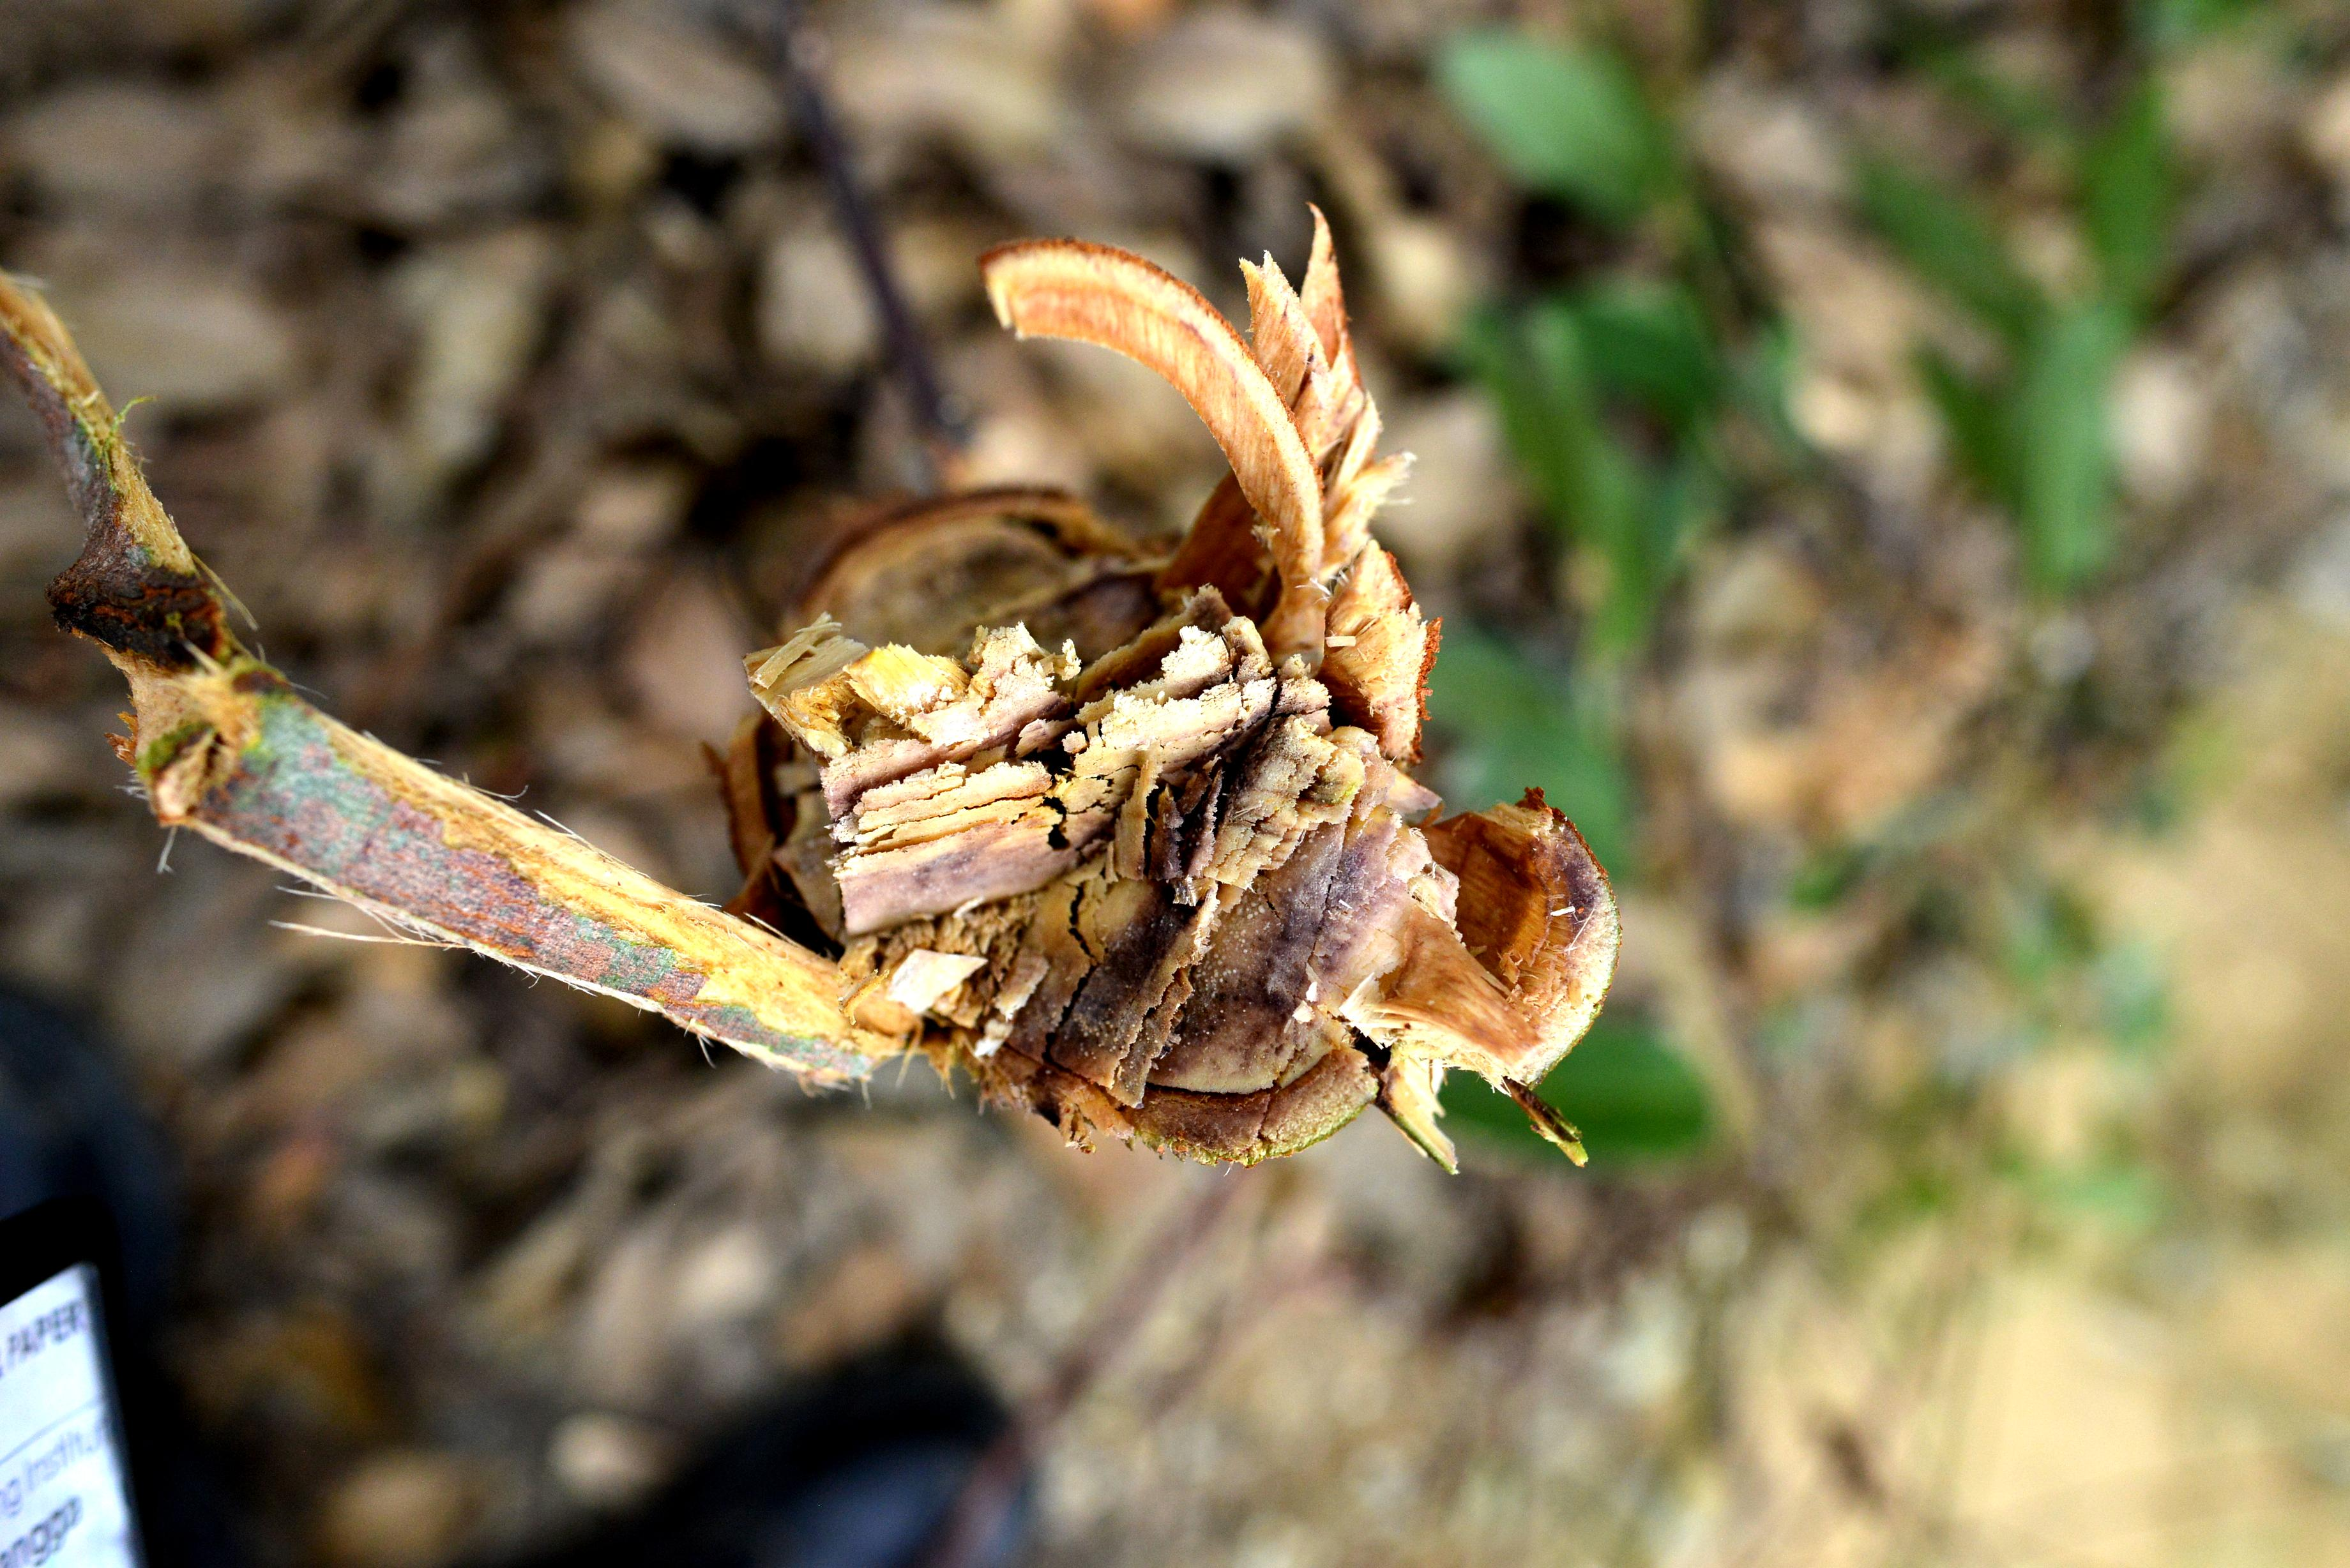Ralstonia: (1122, 707, 1382, 962), (1027, 985, 1235, 1069), (882, 667, 943, 719)
